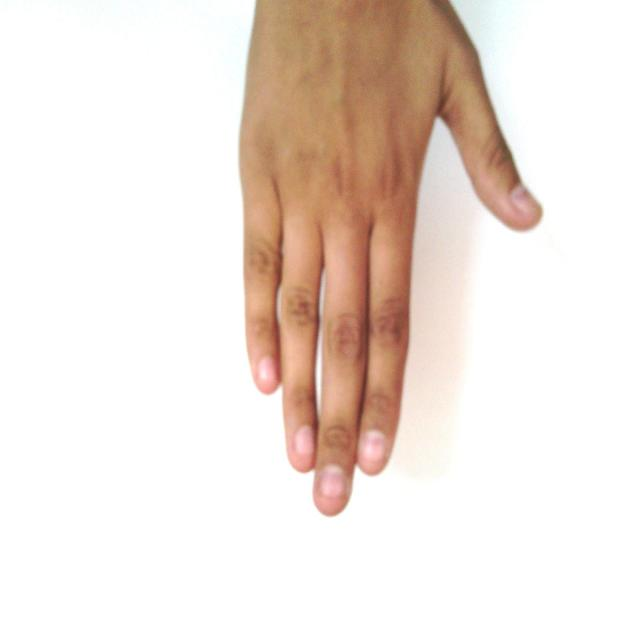others: (185, 1, 599, 520)
